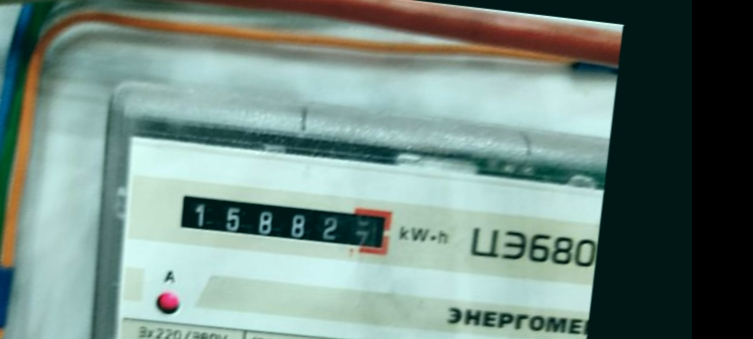1: (189, 204, 206, 231)
2: (318, 217, 336, 243)
5: (221, 207, 240, 235)
7: (351, 229, 367, 250)
8: (253, 212, 272, 240), (286, 215, 304, 241)
screen: (161, 180, 400, 270)
